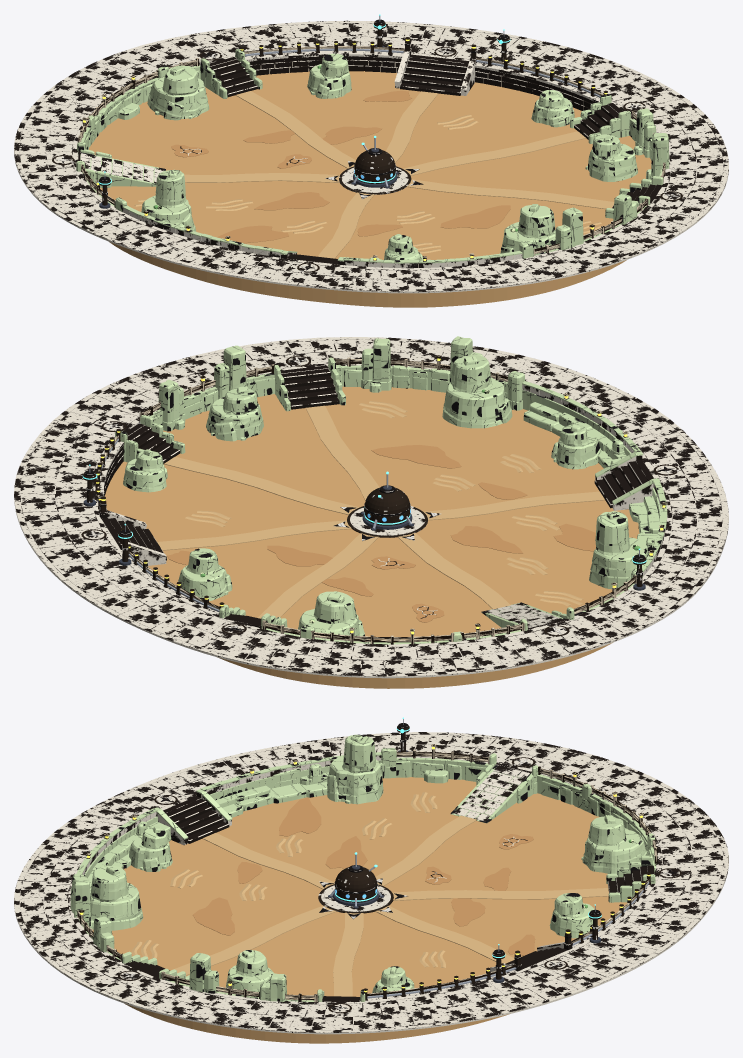
Rendered from ILHA2_03_MINING_ZONE_1d00de.fbx.
3 views of the same model, one above another, from view 1: azimuth 30°, elevation 25°; view 2: azimuth 150°, elevation 25°; view 3: azimuth 270°, elevation 25° (orthographic). The views are drawn at different scales.
Parts seen in each view (by area): view 1: DB_Mine_Floor__Sand_DB, DB_Mine_Promenade__Stone_Paving_DB, DB_Mine_Promenade__Stone_Paving_DB_B, DB_Mine_Promenade__Stone_DB_Block, DB_Mine_Rock__Cliff_Rock_DB_Top, DB_Mine_Floor__Sand_DBMineLight, DB_Mine_Rock__Cliff_Rock_DB_B, DB_Mine_Stone__Stone_DBMineSand, DB_Mine_Floor__Sand_DBMineDark, DB_Mine_Stone__Stone_Paving_DB, DB_Mine_Rock__Cliff_Rock_DB_Dark, DB_Mine_Promenade__Stone_DB_Block_B (+11 smaller); view 2: DB_Mine_Floor__Sand_DB, DB_Mine_Promenade__Stone_Paving_DB, DB_Mine_Promenade__Stone_Paving_DB_B, DB_Mine_Promenade__Stone_DB_Block, DB_Mine_Rock__Cliff_Rock_DB_Top, DB_Mine_Floor__Sand_DBMineLight, DB_Mine_Rock__Cliff_Rock_DB_B, DB_Mine_Floor__Sand_DBMineDark, DB_Mine_Rock__Cliff_Rock_DB_Dark, DB_Mine_Stone__Stone_Paving_DB, DB_Mine_Promenade__Stone_DB_Block_B, DB_Mine_Stone__Stone_DBMineSand (+9 smaller); view 3: DB_Mine_Floor__Sand_DB, DB_Mine_Promenade__Stone_Paving_DB, DB_Mine_Promenade__Stone_Paving_DB_B, DB_Mine_Promenade__Stone_DB_Block, DB_Mine_Rock__Cliff_Rock_DB_Top, DB_Mine_Rock__Cliff_Rock_DB_B, DB_Mine_Floor__Sand_DBMineLight, DB_Mine_Floor__Sand_DBMineDark, DB_Mine_Rock__Cliff_Rock_DB_Dark, DB_Mine_Stone__Stone_DBMineSand, DB_Mine_Stone__Stone_Paving_DB, DB_Mine_Promenade__Stone_DB_Block_B (+10 smaller).
Boxes of the visible parts, x1,y1,x2,y2 form: DB_Mine_Floor__Sand_DB: (88,71,651,307); DB_Mine_Promenade__Stone_Paving_DB: (20,23,723,289); DB_Mine_Promenade__Stone_Paving_DB_B: (20,23,723,289); DB_Mine_Promenade__Stone_DB_Block: (14,20,728,293); DB_Mine_Rock__Cliff_Rock_DB_Top: (76,49,669,260); DB_Mine_Floor__Sand_DBMineLight: (135,91,614,258); DB_Mine_Rock__Cliff_Rock_DB_B: (76,62,669,259); DB_Mine_Stone__Stone_DBMineSand: (80,52,595,268); DB_Mine_Floor__Sand_DBMineDark: (171,90,510,243); DB_Mine_Stone__Stone_Paving_DB: (78,49,640,264); DB_Mine_Rock__Cliff_Rock_DB_Dark: (80,67,651,253); DB_Mine_Promenade__Stone_DB_Block_B: (56,53,728,291); DB_Mine_Floor__Sand_DB: (104,386,639,688); DB_Mine_Promenade__Stone_Paving_DB: (20,339,722,673); DB_Mine_Promenade__Stone_Paving_DB_B: (20,339,716,673); DB_Mine_Promenade__Stone_DB_Block: (14,337,728,678); DB_Mine_Rock__Cliff_Rock_DB_Top: (115,336,660,644); DB_Mine_Floor__Sand_DBMineLight: (157,401,604,618); DB_Mine_Rock__Cliff_Rock_DB_B: (115,346,659,641); DB_Mine_Floor__Sand_DBMineDark: (167,445,595,622); DB_Mine_Rock__Cliff_Rock_DB_Dark: (123,367,649,641); DB_Mine_Stone__Stone_Paving_DB: (97,383,653,629); DB_Mine_Promenade__Stone_DB_Block_B: (22,337,728,676); DB_Mine_Stone__Stone_DBMineSand: (99,384,666,627); DB_Mine_Floor__Sand_DB: (92,777,627,1043); DB_Mine_Promenade__Stone_Paving_DB: (22,734,722,1030); DB_Mine_Promenade__Stone_Paving_DB_B: (20,735,692,1028); DB_Mine_Promenade__Stone_DB_Block: (14,732,728,1034); DB_Mine_Rock__Cliff_Rock_DB_Top: (70,734,656,1002); DB_Mine_Rock__Cliff_Rock_DB_B: (70,743,655,1001); DB_Mine_Floor__Sand_DBMineLight: (131,792,608,996); DB_Mine_Floor__Sand_DBMineDark: (193,797,535,955); DB_Mine_Rock__Cliff_Rock_DB_Dark: (89,757,652,998); DB_Mine_Stone__Stone_DBMineSand: (82,755,572,971); DB_Mine_Stone__Stone_Paving_DB: (144,763,654,1000); DB_Mine_Promenade__Stone_DB_Block_B: (17,747,723,1032).
Size of the model in its own units: 152 by 19.88 by 153.
16 materials, 7 textured.
